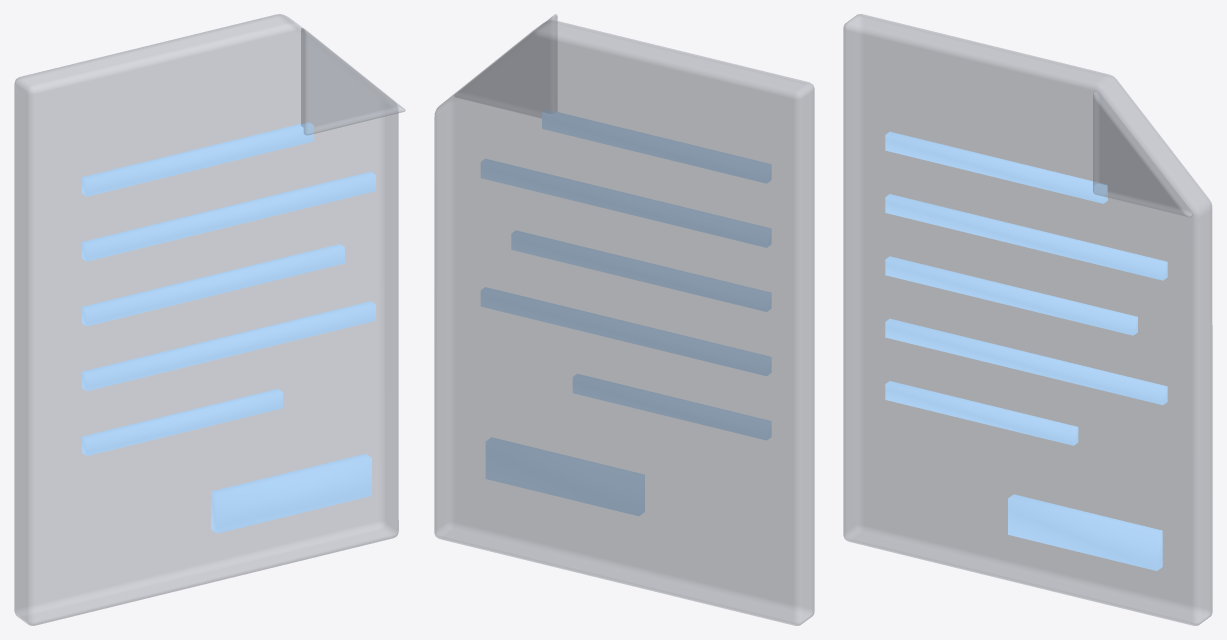
Rendered from devis.glb.
The picture shows the model from 3 angles, left to right: view 1: azimuth 30°, elevation 25°; view 2: azimuth 150°, elevation 25°; view 3: azimuth 330°, elevation 25°; orthographic projection. The views are drawn at different scales.
Visible parts, largest first — view 1: feuille, total, ligne1, ligne3, pli, ligne2, ligne0, ligne4; view 2: feuille, total, ligne1, ligne3, pli, ligne2, ligne0, ligne4; view 3: feuille, total, ligne1, ligne3, pli, ligne2, ligne0, ligne4.
Part boxes in pixels (x1,y1,x2,y2): feuille: (14,14,398,625); total: (211,453,371,533); ligne1: (82,171,375,261); ligne3: (82,301,375,391); pli: (301,27,405,135); ligne2: (82,244,344,326); ligne0: (82,122,313,196); ligne4: (82,388,282,455); feuille: (434,20,814,625); total: (485,437,644,516); ligne1: (480,158,771,247); ligne3: (480,287,771,376); pli: (454,14,557,117); ligne2: (511,230,771,311); ligne0: (542,109,771,183); ligne4: (572,373,771,440); feuille: (843,14,1212,625); total: (1008,494,1162,570); ligne1: (885,194,1167,280); ligne3: (885,318,1167,405); pli: (1093,90,1193,217); ligne2: (885,256,1137,335); ligne0: (885,131,1107,203); ligne4: (885,381,1078,445).
Bounding box in the file's own units: 0.72 × 1 × 0.085.
